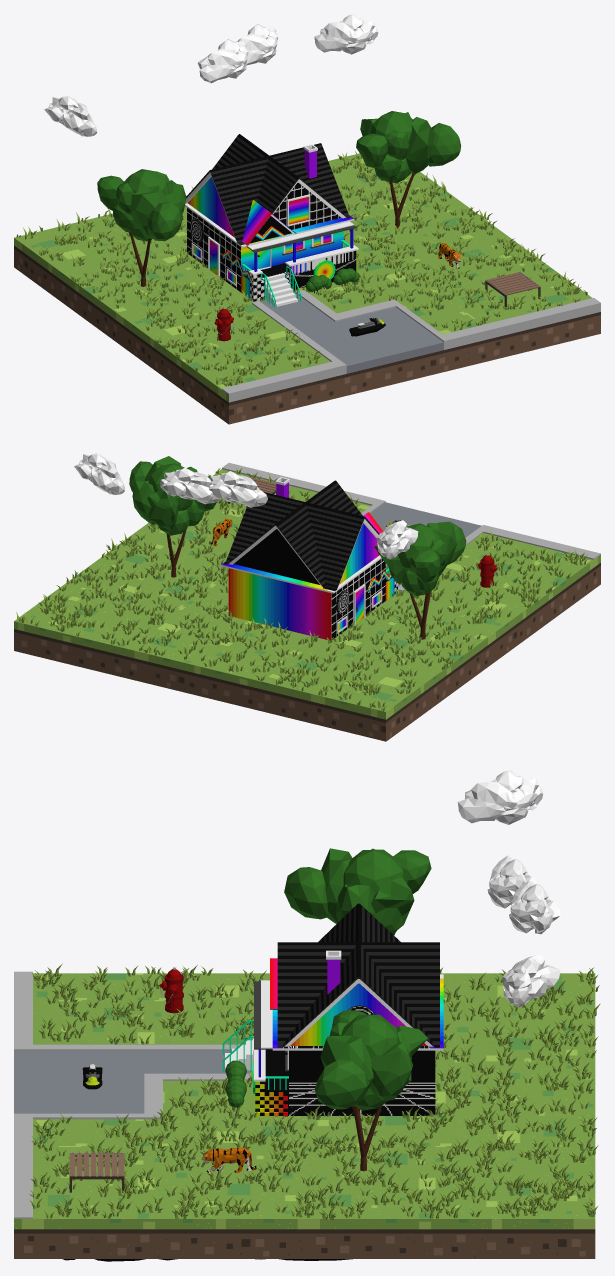
3 renders of one model, top to bottom at view 1: azimuth 30°, elevation 25°; view 2: azimuth 150°, elevation 25°; view 3: azimuth 270°, elevation 25°, orthographic. The views are drawn at different scales.
Parts seen in each view (by area): view 1: Cube.006, Cube.1320, Circle.012_Grass_0.192, Cube.007, tree, tree.001, Cube.009; view 2: Cube.006, Cube.1320, Circle.012_Grass_0.192, Cube.007, tree.001, tree, OBJRANDOM_FIRE_HYDRANT; view 3: Cube.006, Circle.012_Grass_0.192, Cube.1320, tree, Cube.007, tree.001, Cube.009, ANIMAL_TIGRE, OBJRANDOM_FIRE_HYDRANT.
Boxes of the visible parts, <box> form: Cube.006: <box>14,153,600,424</box>; Cube.1320: <box>185,134,358,307</box>; Circle.012_Grass_0.192: <box>16,151,587,386</box>; Cube.007: <box>44,14,378,136</box>; tree: <box>356,111,460,228</box>; tree.001: <box>97,169,186,286</box>; Cube.009: <box>485,272,540,306</box>; Cube.006: <box>14,463,600,741</box>; Cube.1320: <box>221,477,397,640</box>; Circle.012_Grass_0.192: <box>16,468,587,711</box>; Cube.007: <box>74,453,418,559</box>; tree.001: <box>374,521,466,639</box>; tree: <box>129,456,216,577</box>; OBJRANDOM_FIRE_HYDRANT: <box>478,553,497,587</box>; Cube.006: <box>14,971,595,1258</box>; Circle.012_Grass_0.192: <box>29,963,600,1220</box>; Cube.1320: <box>222,903,443,1116</box>; tree: <box>314,1010,427,1171</box>; Cube.007: <box>457,770,560,1007</box>; tree.001: <box>284,848,431,935</box>; Cube.009: <box>69,1152,124,1192</box>; ANIMAL_TIGRE: <box>201,1147,256,1172</box>; OBJRANDOM_FIRE_HYDRANT: <box>160,967,183,1013</box>.
Bounding box in the file's own units: 4071 × 2149 × 4040.
Materials: 28 (5 with a texture image).
